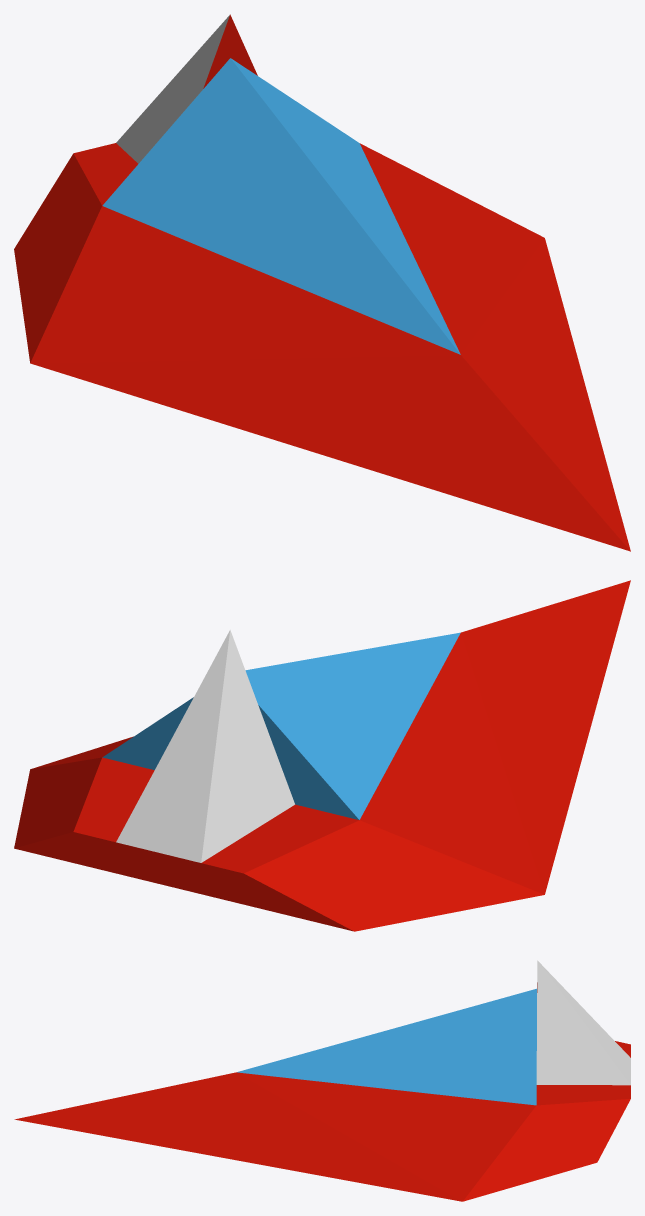
Rendered from nave.glb.
3 renders of one model, top to bottom at view 1: azimuth 30°, elevation 25°; view 2: azimuth 150°, elevation 25°; view 3: azimuth 270°, elevation 25°, orthographic. The views are drawn at different scales.
Visible parts, largest first — view 1: Nave; view 2: Nave; view 3: Nave.
Boxes of the visible parts, <box> form: Nave: <box>14,14,630,551</box>; Nave: <box>14,580,630,931</box>; Nave: <box>14,960,630,1201</box>.
Bounding box in the file's own units: 1.73 × 0.7861 × 2.75.
